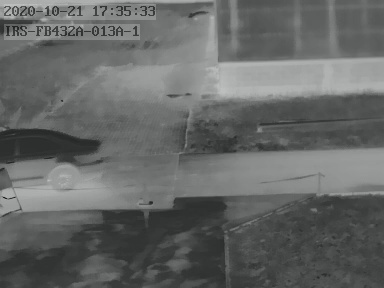vehicle: (1, 124, 107, 190)
